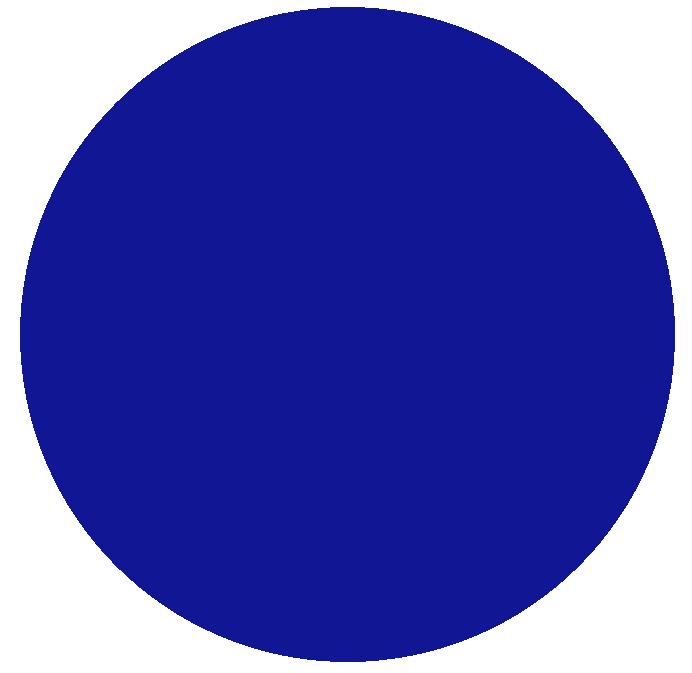blue_circle: (13, 0, 683, 673)
